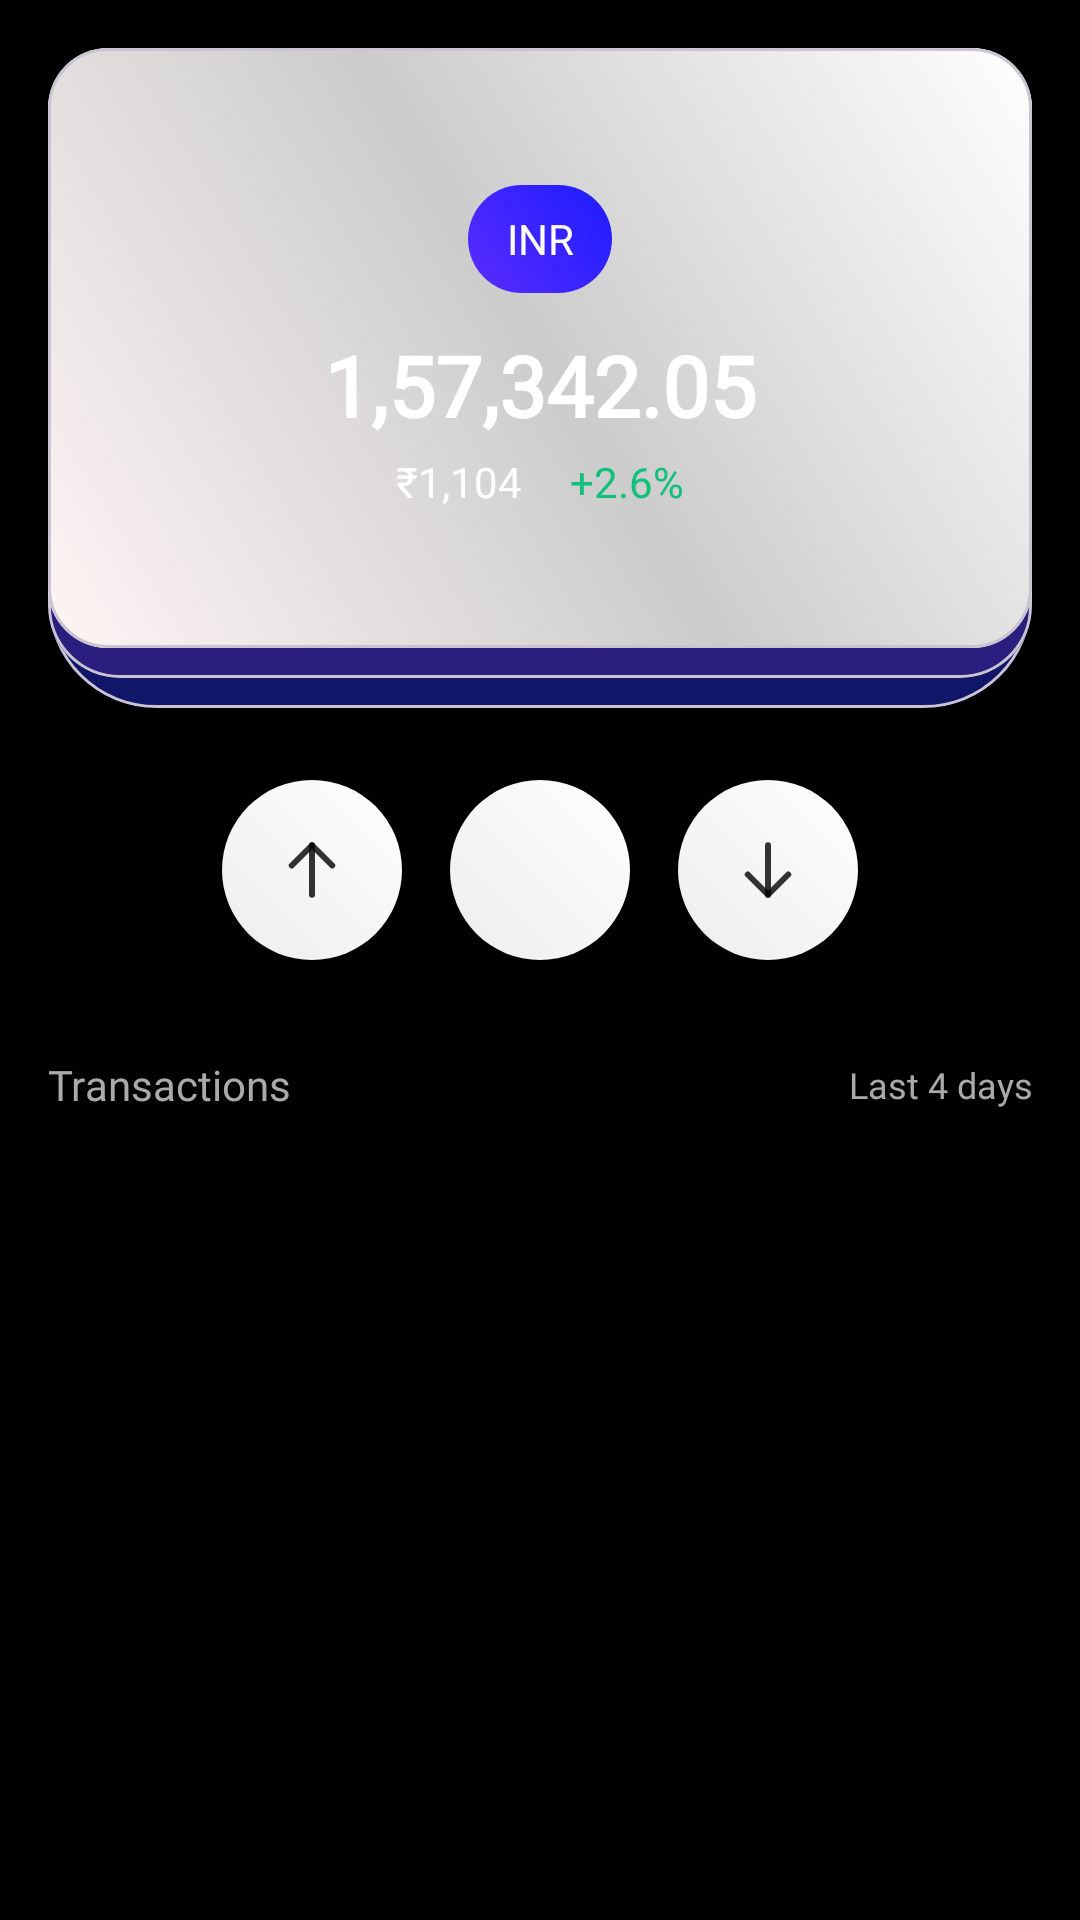

Locate icon controls on the screen. Image size 1080x1920, boxes as (x1, y1, x2, y2).
arrow up: (222, 780, 402, 960)
full arrow down: (678, 780, 858, 960)
